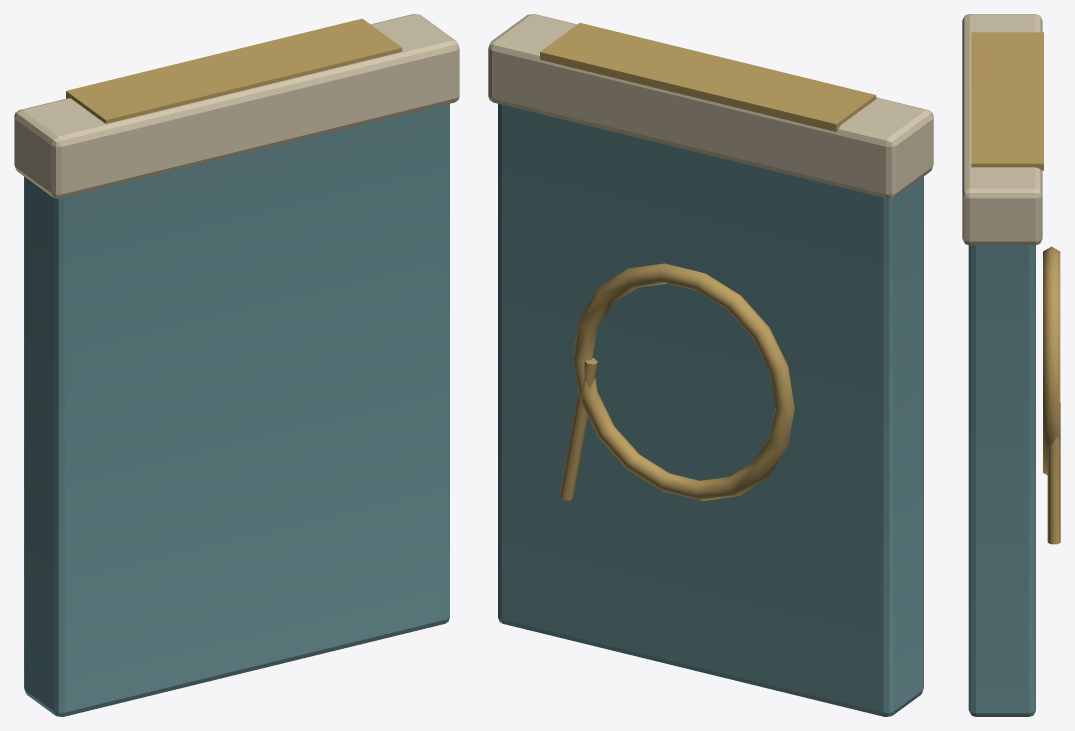
Rendered from guitar_string.glb.
The picture shows the model from 3 angles, left to right: view 1: azimuth 30°, elevation 25°; view 2: azimuth 150°, elevation 25°; view 3: azimuth 270°, elevation 25°; orthographic projection. The views are drawn at different scales.
Size of the model in its own units: 0.165 by 0.2275 by 0.038.
